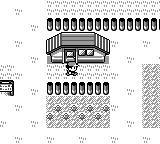leer: (0, 80, 14, 96)
main: (65, 61, 79, 76)
no-caminable: (46, 32, 109, 63), (47, 18, 159, 31), (47, 82, 109, 95)
puerta: (64, 49, 76, 63)
